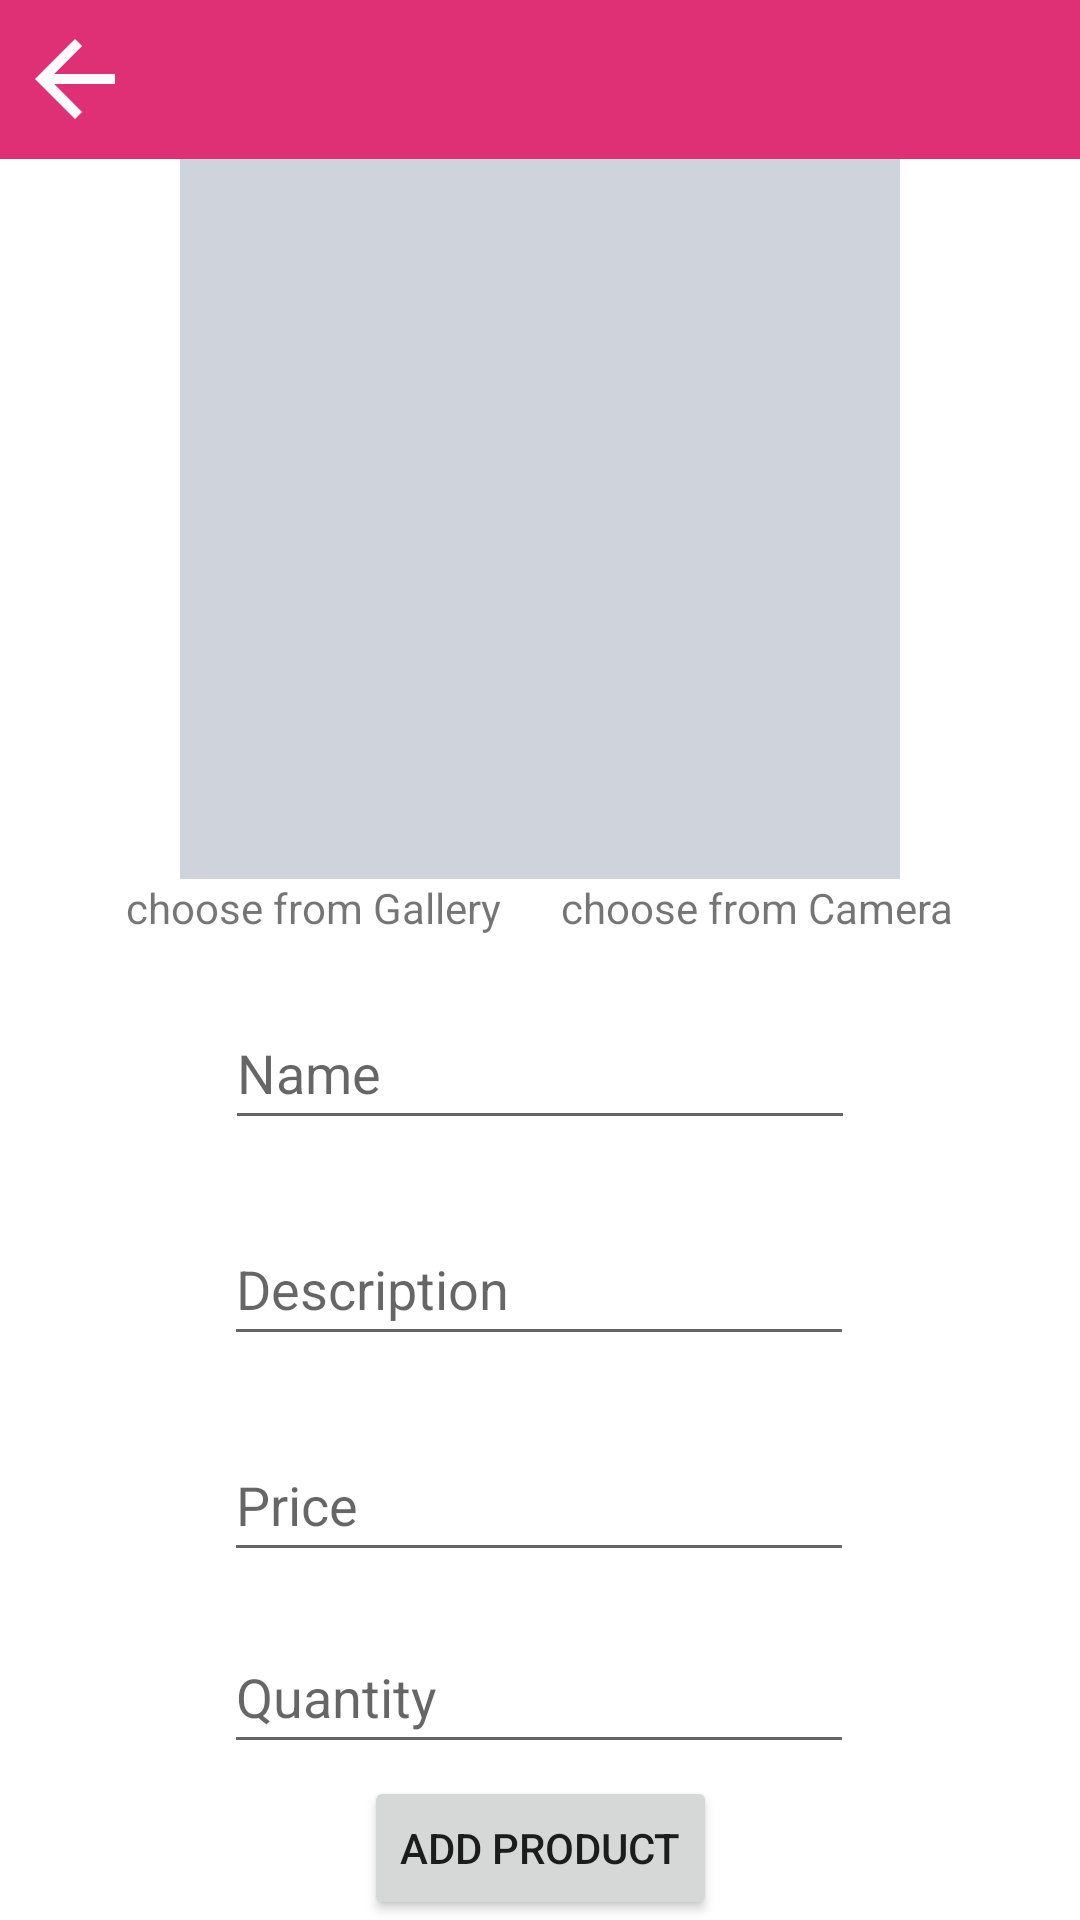

Where to tap for icons on this 1080 x 1920 app screen, as (x,y):
arrow back: (75,79)
